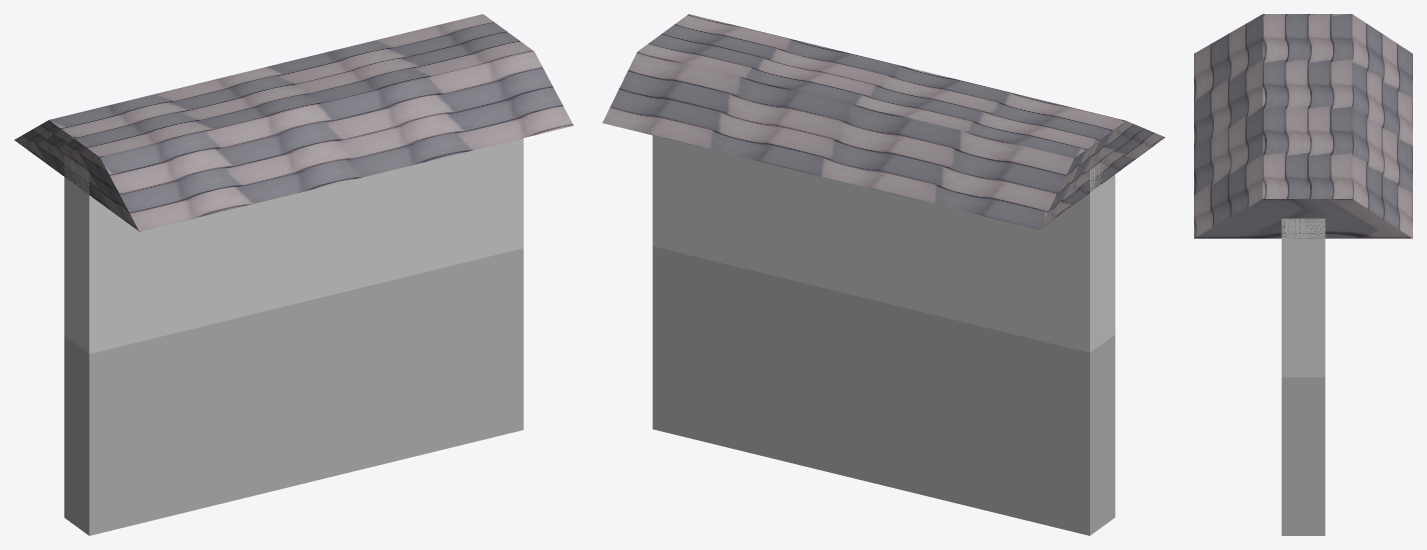
Rendered from NewWall1.fbx.
The picture shows the model from 3 angles, left to right: view 1: azimuth 30°, elevation 25°; view 2: azimuth 150°, elevation 25°; view 3: azimuth 270°, elevation 25°; orthographic projection. The views are drawn at different scales.
Parts seen in each view (by area): view 1: pCube1, pCube2; view 2: pCube1, pCube2; view 3: pCube2, pCube1.
Boxes of the visible parts, x1,y1,x2,y2 form: pCube1: (64, 138, 523, 535); pCube2: (14, 14, 573, 231); pCube1: (652, 135, 1115, 535); pCube2: (602, 14, 1165, 229); pCube2: (1194, 14, 1412, 238); pCube1: (1281, 218, 1325, 535).
Size of the model in its own units: 10 by 8.5 by 5.
